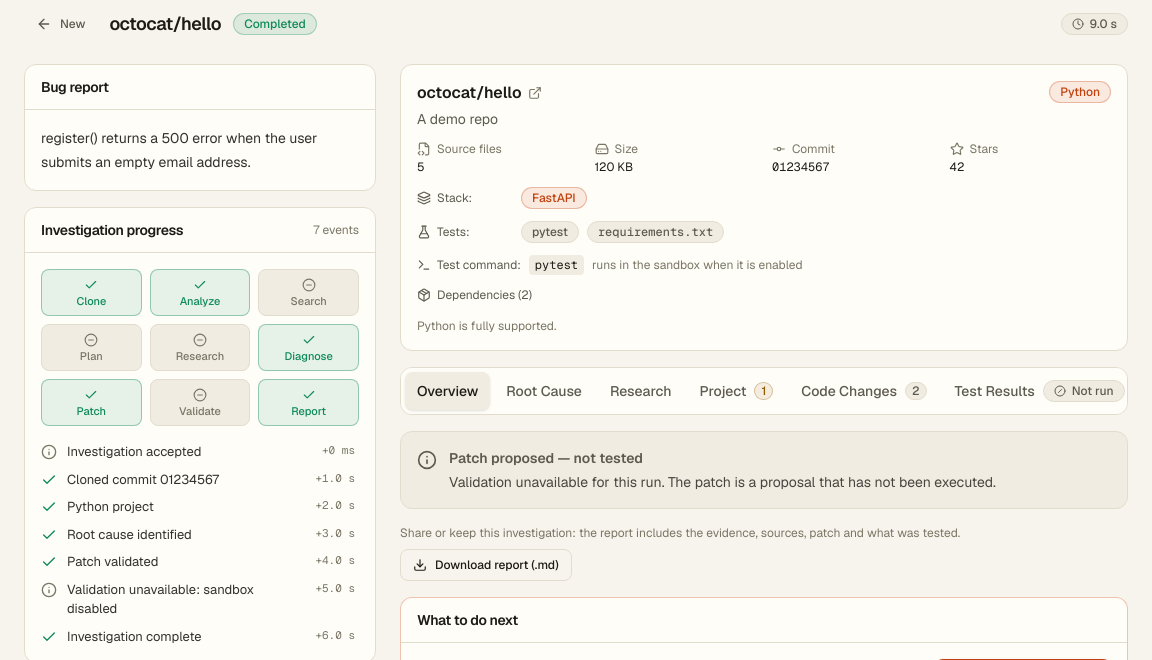
Test case: Accept and reject changes › accepts and rejects individual files and lets you change your mind
Click the tab "Code Changes 2" at x=864, y=391, box top-left (789, 372), bottom-right (938, 410)
(page scrolled)
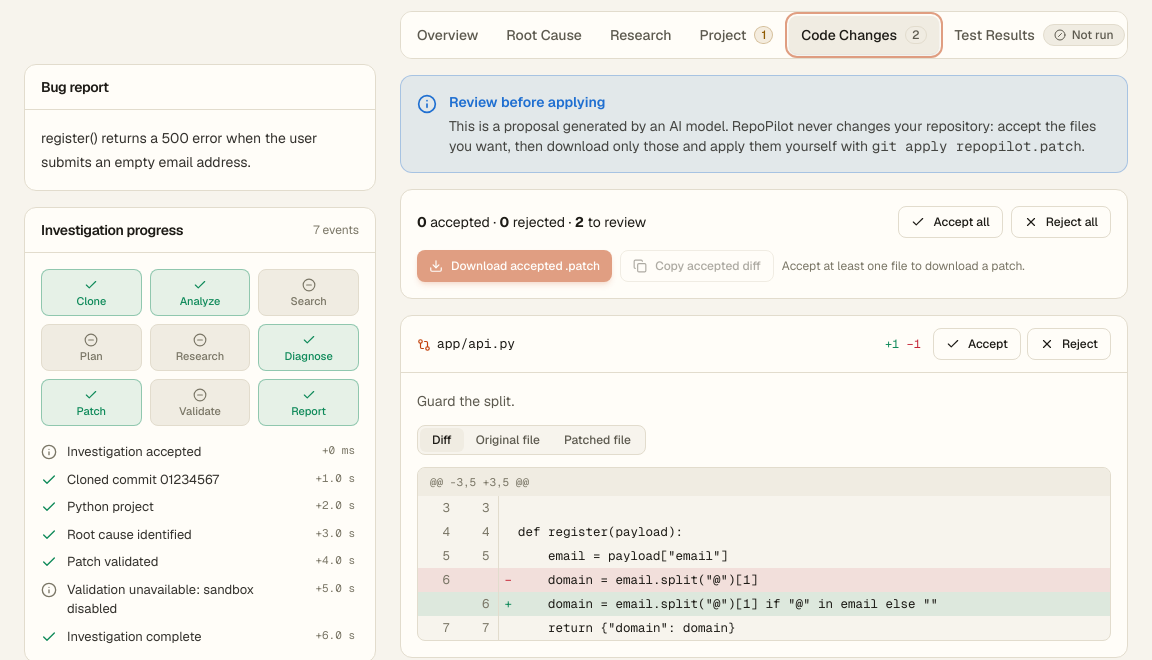
Click the button "Accept" in the row of "app/api.py" at x=977, y=344, box top-left (933, 328), bottom-right (1021, 360)
(page scrolled)
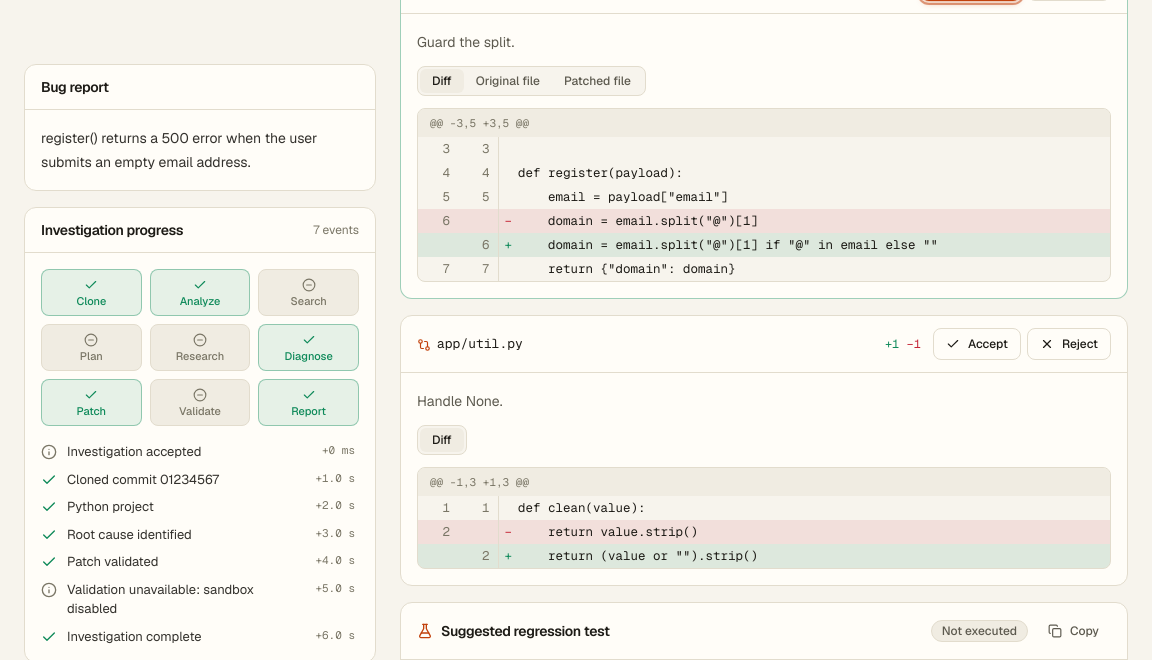
Click the button "Reject" in the row of "app/util.py" at x=1069, y=344, box top-left (1027, 328), bottom-right (1111, 360)
(page scrolled)
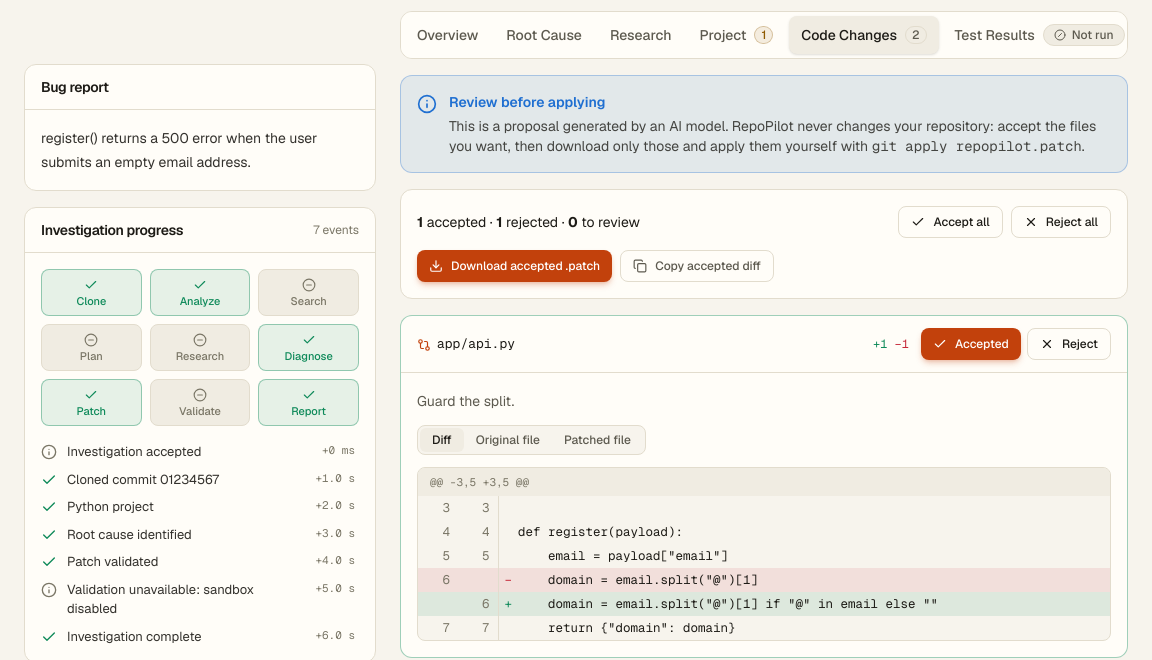
Expected: the button "Download accepted .patch" is enabled, top-left (417, 250), bottom-right (612, 282)
Expected: the text "1 accepted · 1 rejected · 0 to review" is shown, top-left (417, 212), bottom-right (640, 232)
Click the button "Accepted" at x=971, y=344, box top-left (921, 328), bottom-right (1021, 360)
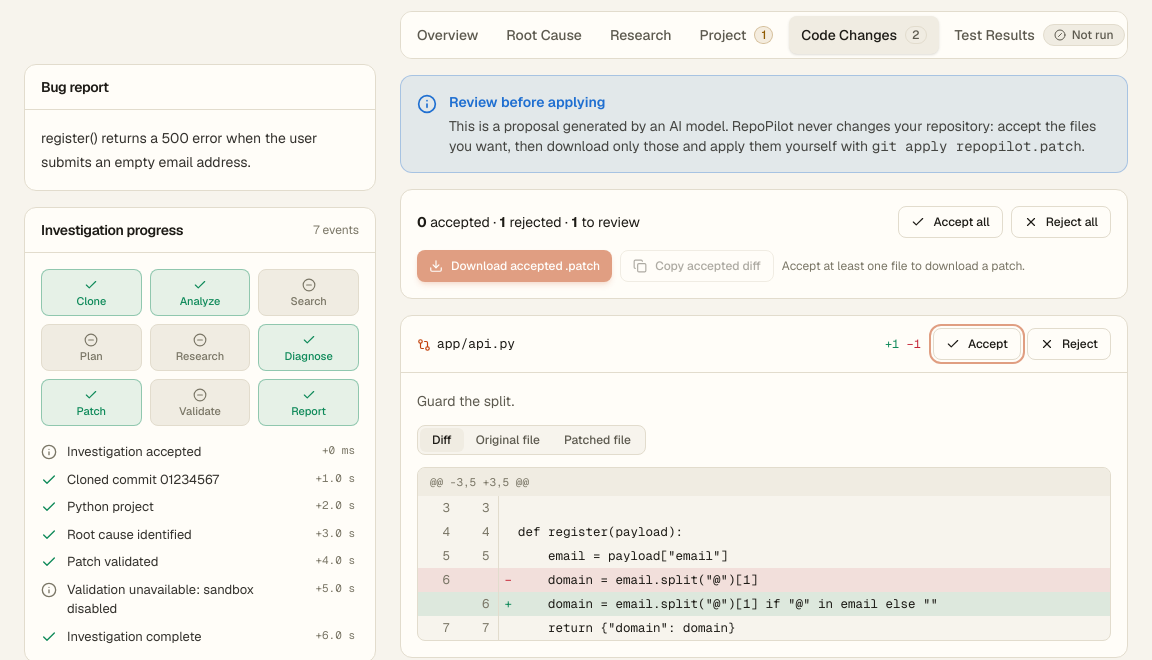
Expected: the text "0 accepted · 1 rejected · 1 to review" is shown, top-left (417, 212), bottom-right (640, 232)
